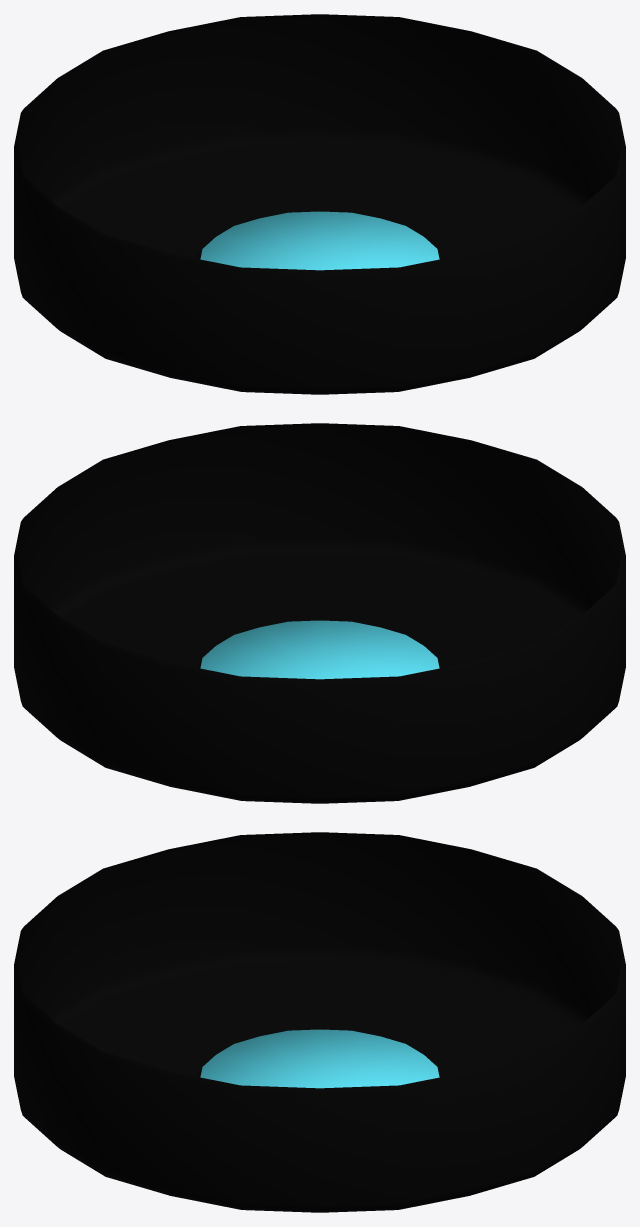
The model's file is SM_RoofLight_003.FBX.
3 views of the same model, one above another, from view 1: azimuth 30°, elevation 25°; view 2: azimuth 150°, elevation 25°; view 3: azimuth 270°, elevation 25° (orthographic).
Visible parts, largest first — view 1: SM_RoofLight_003; view 2: SM_RoofLight_003; view 3: SM_RoofLight_003.
Part boxes in pixels (<box>): SM_RoofLight_003: <box>14,14,625,394</box>; SM_RoofLight_003: <box>14,423,625,803</box>; SM_RoofLight_003: <box>14,832,625,1212</box>.
Size of the model in its own units: 12.59 by 12.59 by 2.86.
